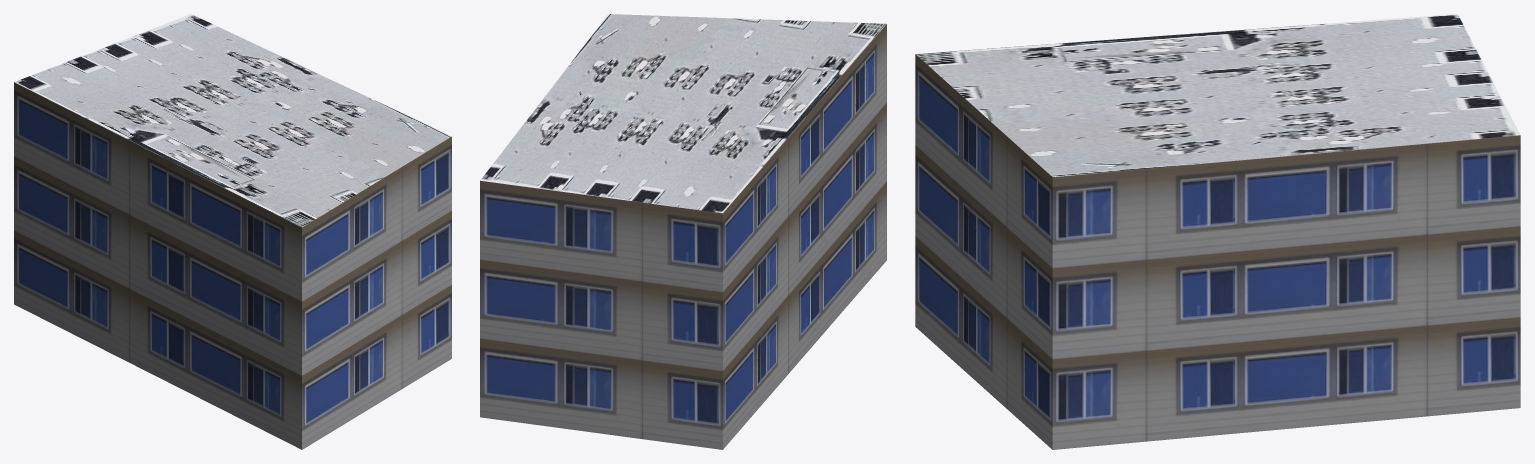
The model's file is ResTex__2826.fbx.
The picture shows the model from 3 angles, left to right: view 1: azimuth 30°, elevation 25°; view 2: azimuth 150°, elevation 25°; view 3: azimuth 270°, elevation 25°; orthographic projection. The views are drawn at different scales.
Visible parts, largest first — view 1: CityEngineMaterial_23_m, CityEngineMaterial_8_m; view 2: CityEngineMaterial_23_m, CityEngineMaterial_8_m; view 3: CityEngineMaterial_23_m, CityEngineMaterial_8_m.
Part boxes in pixels (x1,y1,x2,y2): CityEngineMaterial_23_m: (14, 82, 451, 449); CityEngineMaterial_8_m: (14, 14, 451, 227); CityEngineMaterial_23_m: (480, 24, 886, 449); CityEngineMaterial_8_m: (480, 14, 886, 213); CityEngineMaterial_23_m: (915, 54, 1520, 449); CityEngineMaterial_8_m: (916, 14, 1520, 176).
Bounding box in the file's own units: 11.54 × 9 × 18.09.
2 materials, 2 textured.
